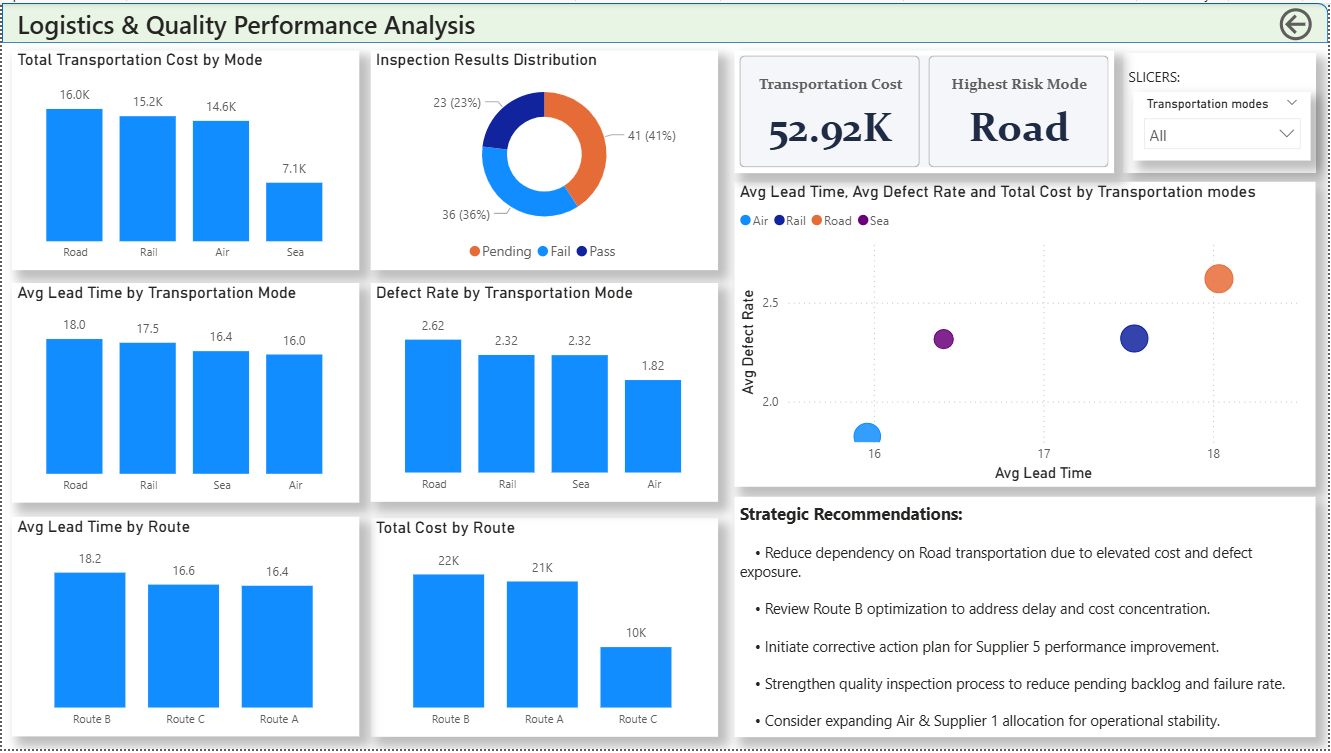

The page's visual inventory and layout, read from the dashboard file:
{"tool":"powerbi","page":{"name":"Logistics & Quality performance analysis","canvas":[1280,720],"ordinal":2},"visuals":[{"type":"shape","box":[0,0,1280,38.6],"z":0},{"type":"shape","box":[1082.2,48.3,185.8,115.8],"z":1000},{"type":"textbox","box":[9.7,0,561,45.8],"z":2000},{"type":"clusteredColumnChart","title":"Total Transportation Cost by Mode","fields":{"Category":["supply_chain_data.Transportation modes"],"Y":["Sum(supply_chain_data.Costs)"]},"box":[9.7,45.8,335.4,212.3],"z":3000},{"type":"clusteredColumnChart","title":"Avg Lead Time by Transportation Mode","fields":{"Y":["Measures Table.Avg Lead Time"],"Category":["supply_chain_data.Transportation modes"]},"box":[9.7,270.2,335.4,212.3],"z":4000},{"type":"clusteredColumnChart","title":"Total Cost by Route","fields":{"Y":["Sum(supply_chain_data.Costs)"],"Category":["supply_chain_data.Routes"]},"box":[355.9,497.1,335.4,211.1],"z":5000},{"type":"clusteredColumnChart","title":"Avg Lead Time by Route","fields":{"Category":["supply_chain_data.Routes"],"Y":["Measures Table.Avg Lead Time"]},"box":[9.7,495.8,335.4,212.3],"z":6000},{"type":"donutChart","title":"Inspection Results Distribution","fields":{"Category":["supply_chain_data.Inspection results"],"Y":["CountNonNull(supply_chain_data.Inspection results)"]},"box":[355.9,45.8,335.4,212.3],"z":7000},{"type":"clusteredColumnChart","title":"Defect Rate by Transportation Mode","fields":{"Y":["Measures Table.Avg Defect Rate"],"Category":["supply_chain_data.Transportation modes"]},"box":[355.9,270.2,335.4,211.1],"z":8000},{"type":"scatterChart","fields":{"X":["Measures Table.Avg Lead Time"],"Y":["Measures Table.Avg Defect Rate"],"Series":["supply_chain_data.Transportation modes"],"Size":["Measures Table.Total Cost"]},"box":[707,172.5,561,294.4],"z":9000},{"type":"cardVisual","fields":{"Data":["Sum(supply_chain_data.Costs)","Measures Table.Highest Risk Mode"]},"box":[707,45.8,366.8,118.2],"z":10000},{"type":"textbox","box":[707,476.5,561,231.6],"z":11000},{"type":"slicer","fields":{"Values":["supply_chain_data.Transportation modes"]},"box":[1091.8,85.7,171.3,66.4],"z":12000},{"type":"actionButton","box":[1228.1,0,51.9,41],"z":13000},{"type":"textbox","box":[1082.2,56.7,148.4,29],"z":14000}]}

Visuals, with their boxes in screenshot pixels (x1, y1, x2, y2), scaled from the page's 1280x720 canvas onto the 1331x753 screenshot:
shape: box=[0, 0, 1330, 40]
shape: box=[1125, 51, 1319, 172]
textbox: box=[10, 0, 593, 48]
"Total Transportation Cost by Mode" clusteredColumnChart: box=[10, 48, 359, 270]
"Avg Lead Time by Transportation Mode" clusteredColumnChart: box=[10, 283, 359, 505]
"Total Cost by Route" clusteredColumnChart: box=[370, 520, 719, 741]
"Avg Lead Time by Route" clusteredColumnChart: box=[10, 519, 359, 741]
"Inspection Results Distribution" donutChart: box=[370, 48, 719, 270]
"Defect Rate by Transportation Mode" clusteredColumnChart: box=[370, 283, 719, 503]
scatterChart - Measures Table.Avg Lead Time x Measures Table.Avg Defect Rate: box=[735, 180, 1319, 488]
cardVisual - Sum(supply_chain_data.Costs) x Measures Table.Highest Risk Mode: box=[735, 48, 1117, 172]
textbox: box=[735, 498, 1319, 741]
slicer - supply_chain_data.Transportation modes: box=[1135, 90, 1313, 159]
actionButton: box=[1277, 0, 1330, 43]
textbox: box=[1125, 59, 1280, 90]
